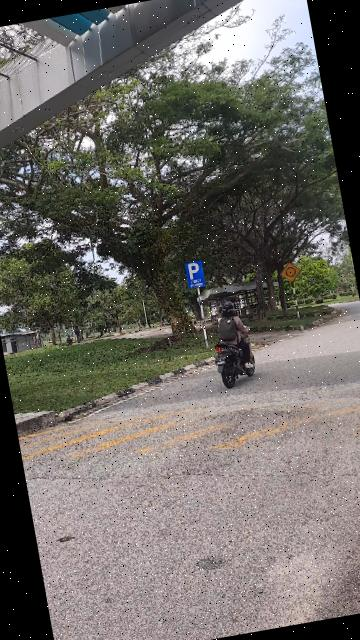motorcycle: (204, 294, 268, 390)
